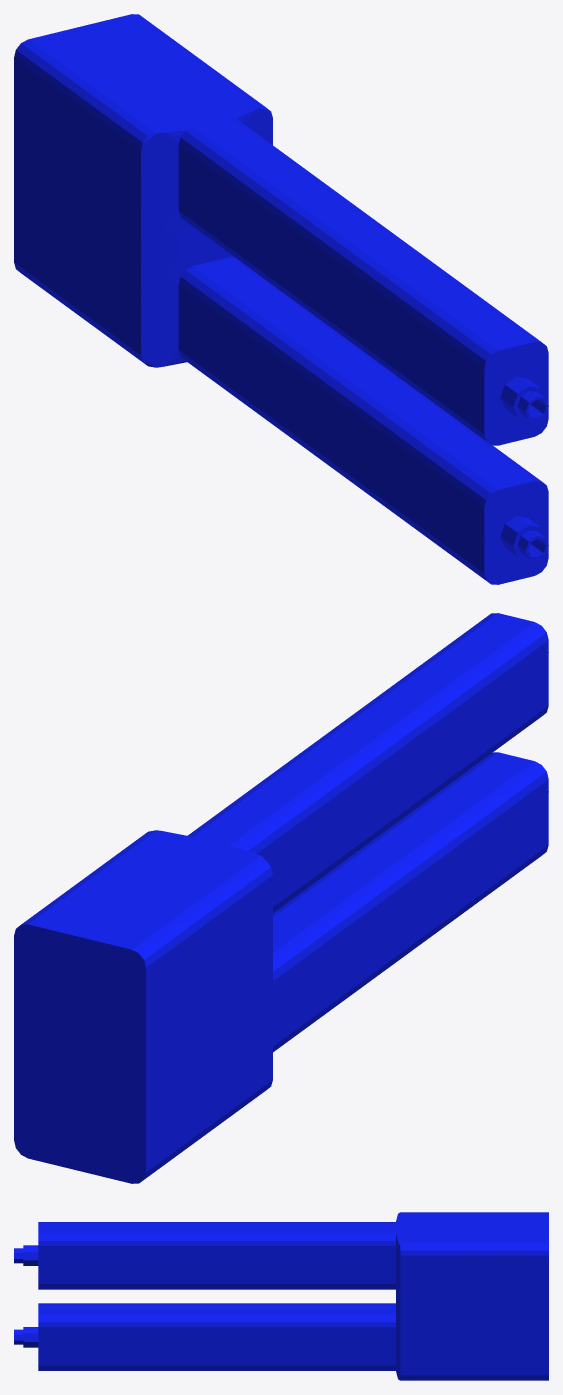
Rendered from Barrel_Vladof.glb.
3 views of the same model, one above another, from view 1: azimuth 30°, elevation 25°; view 2: azimuth 150°, elevation 25°; view 3: azimuth 270°, elevation 25° (orthographic). The views are drawn at different scales.
Visible parts, largest first — view 1: Barrel.Vladof; view 2: Barrel.Vladof; view 3: Barrel.Vladof.
Boxes of the visible parts, left/top/right/bottom form: Barrel.Vladof: left=14, top=14, right=548, bottom=584; Barrel.Vladof: left=14, top=613, right=548, bottom=1183; Barrel.Vladof: left=14, top=1212, right=548, bottom=1380.
Size of the model in its own units: 0.0985 by 0.1669 by 0.5906.
